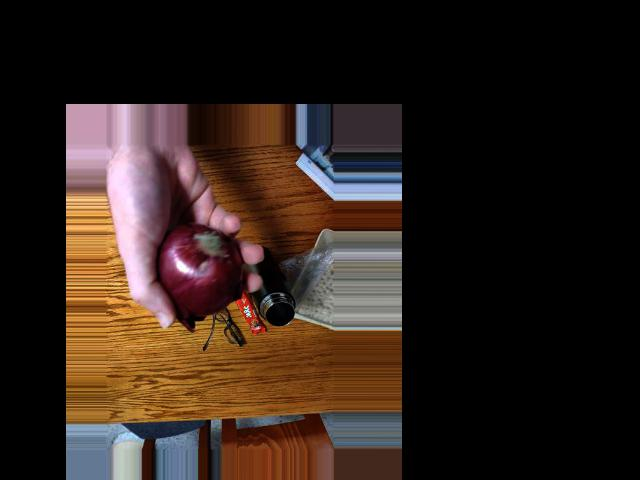onion: (158, 228, 240, 313)
